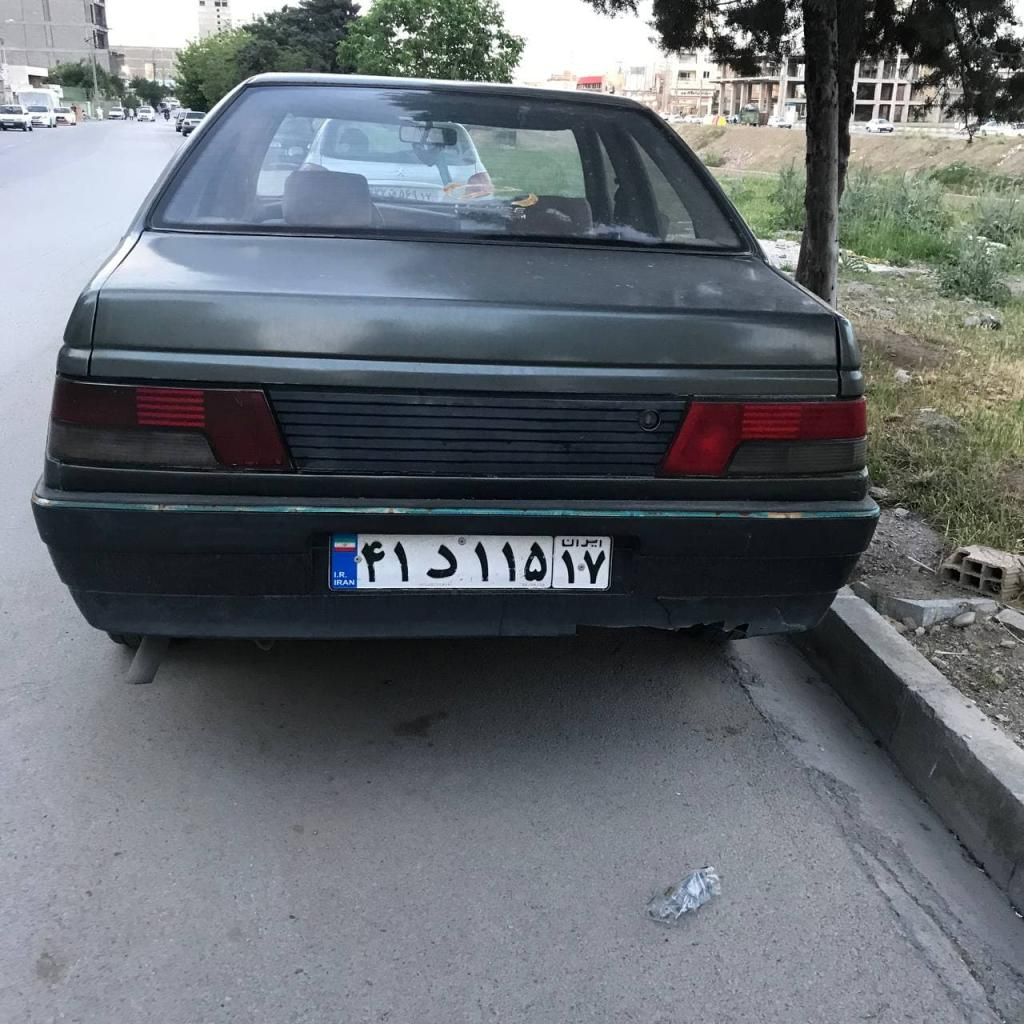Plates: (331, 534, 610, 589)
